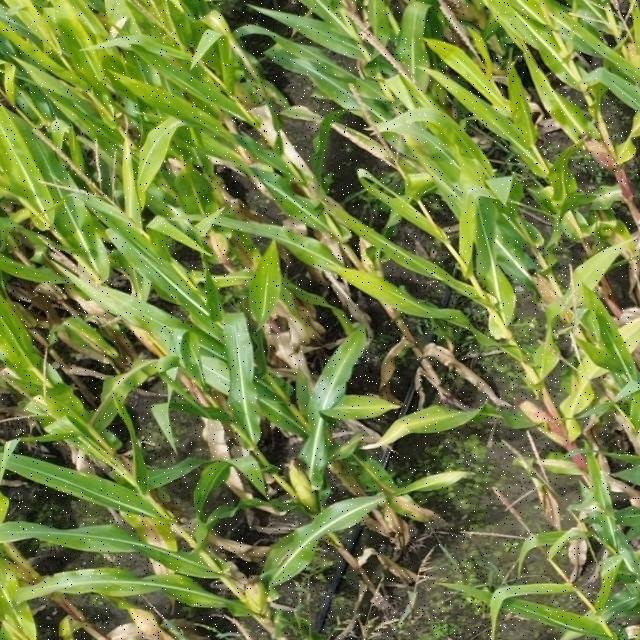gray-leaf-spot: (67, 572, 137, 604)
northern-leaf-blight: (324, 121, 404, 178), (68, 324, 127, 373), (265, 542, 317, 578), (202, 230, 242, 276), (412, 464, 482, 489)
